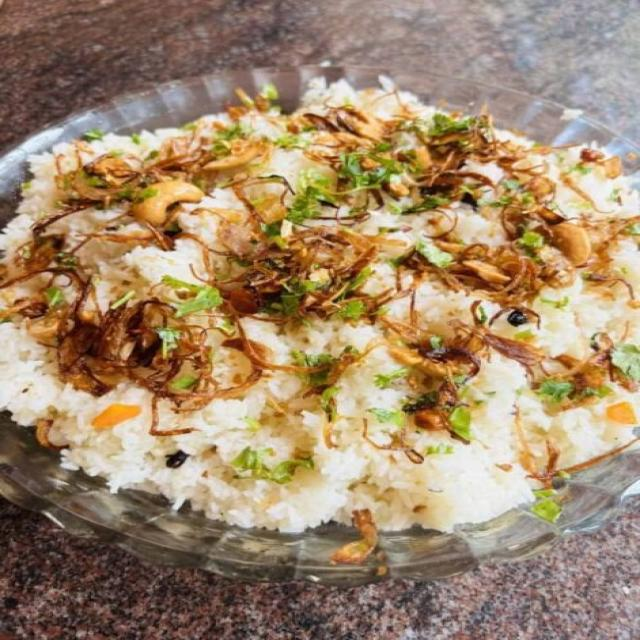nei satham: (5, 86, 640, 580)
